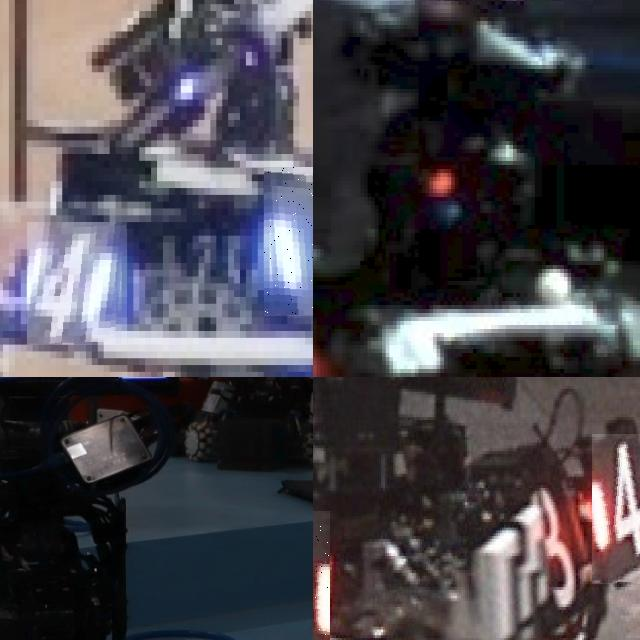B3: (263, 167, 313, 317)
B4: (27, 222, 127, 345)
R4: (592, 434, 640, 584)
